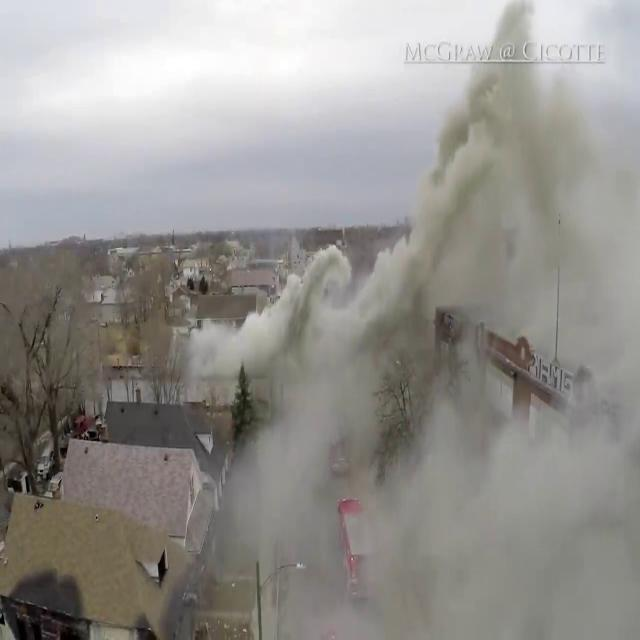Smoke: (205, 20, 640, 638)
